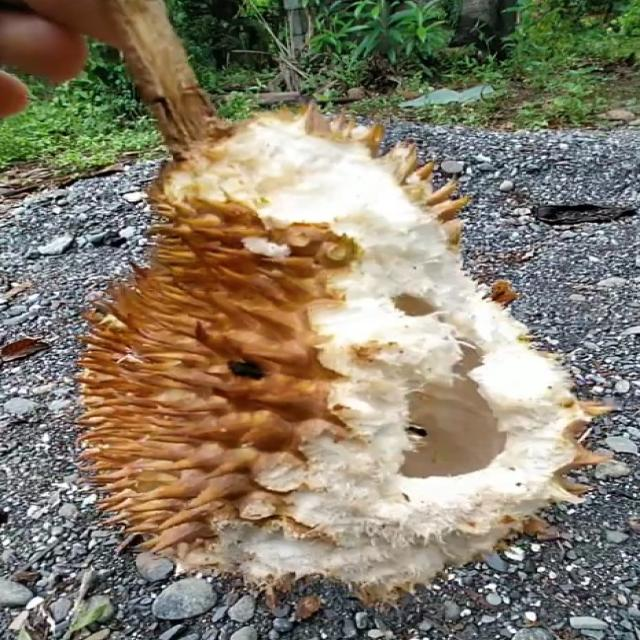defective: (72, 99, 609, 616)
